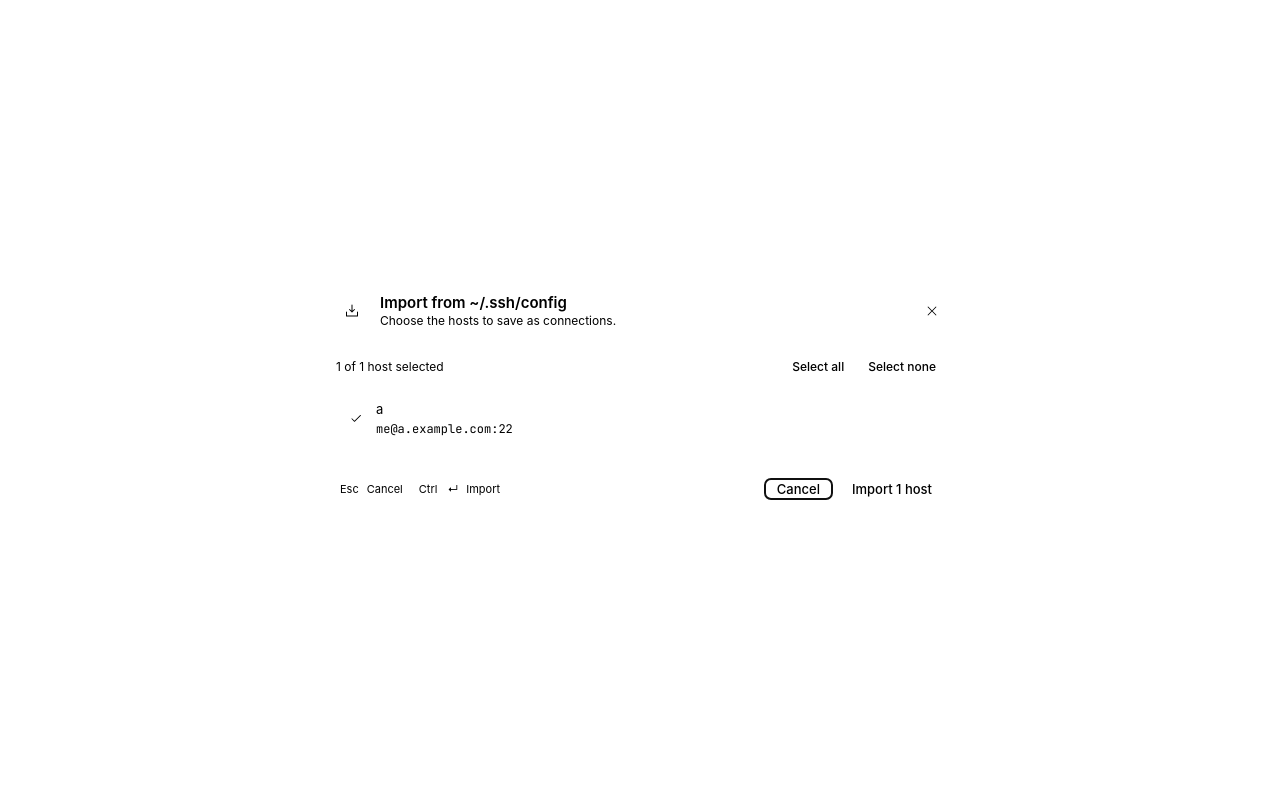
Test: SshConfigImportDialog › keeps the dialog open and says why when the import fails
Click the button "Import 1 host": (892, 489) 840,479 -> 944,499
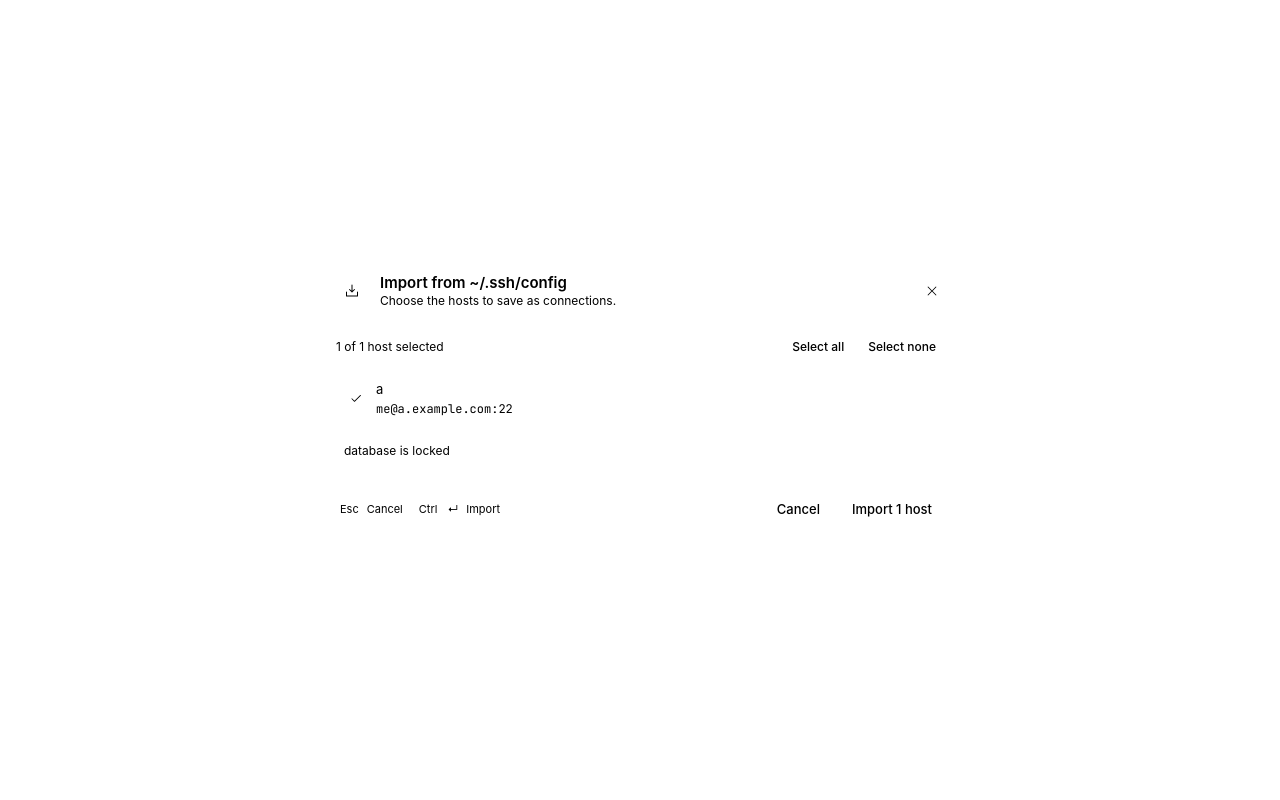
Result: the message reads "database is locked" at 344,443 -> 450,458
